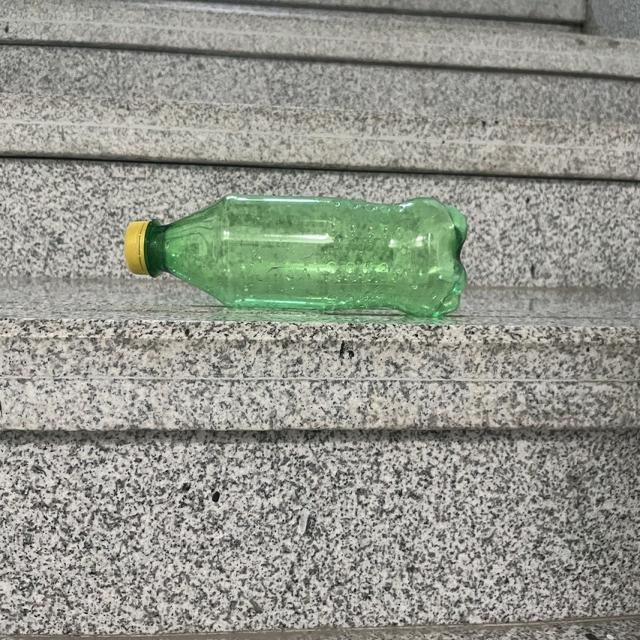empty: (124, 194, 467, 316)
